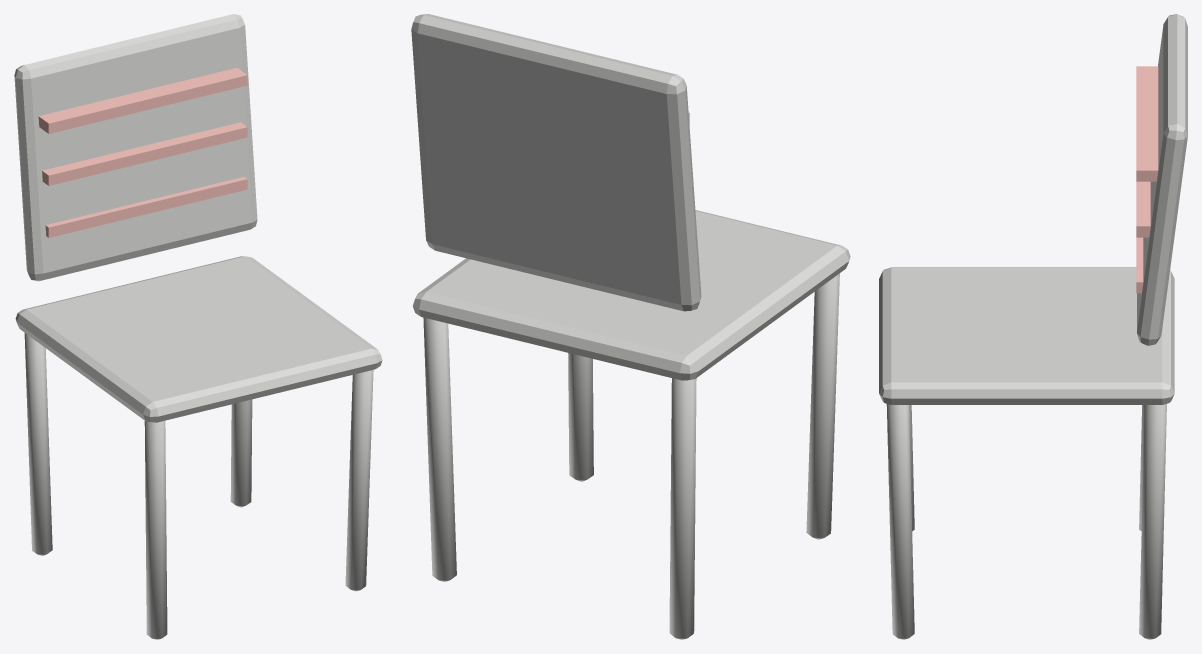
The model's file is cadeira_externa.glb.
The picture shows the model from 3 angles, left to right: view 1: azimuth 30°, elevation 25°; view 2: azimuth 150°, elevation 25°; view 3: azimuth 270°, elevation 25°; orthographic projection. The views are drawn at different scales.
Parts seen in each view (by area): view 1: cadeira_externa; view 2: cadeira_externa; view 3: cadeira_externa.
Boxes of the visible parts, x1,y1,x2,y2 form: cadeira_externa: (14,14,382,639); cadeira_externa: (411,14,850,639); cadeira_externa: (879,14,1187,639).
Bounding box in the file's own units: 0.48 × 0.9294 × 0.5014.
